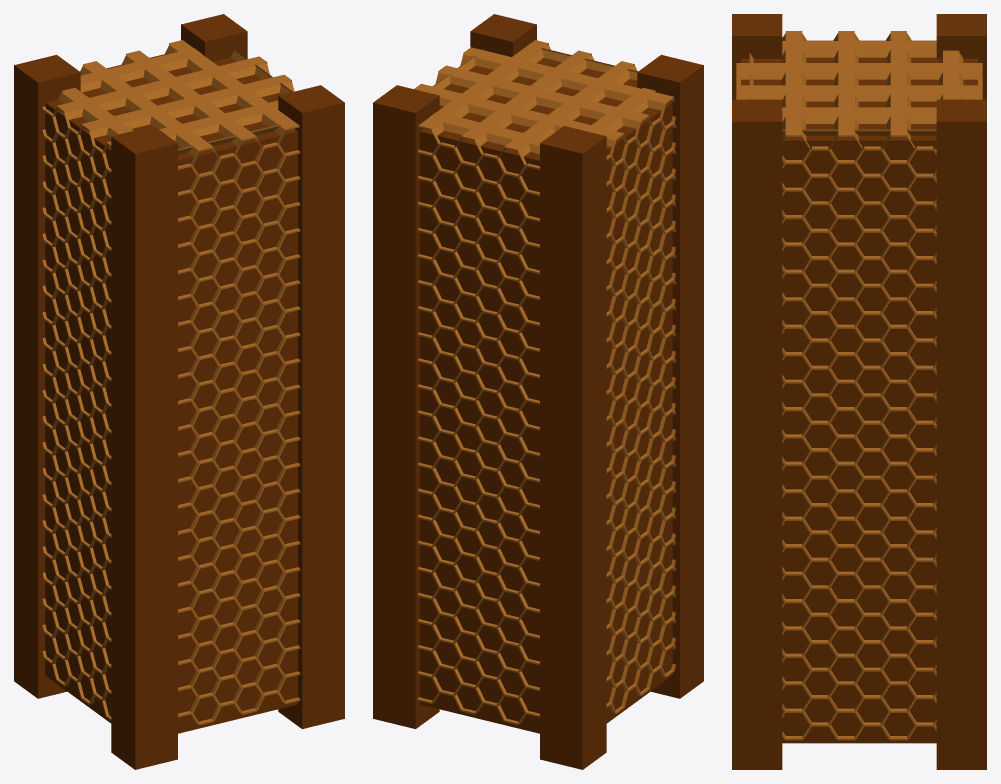
Rendered from wall.fbx.
The picture shows the model from 3 angles, left to right: view 1: azimuth 30°, elevation 25°; view 2: azimuth 150°, elevation 25°; view 3: azimuth 270°, elevation 25°; orthographic projection. The views are drawn at different scales.
Parts seen in each view (by area): view 1: Cube.005, HoneyComb.001, HoneyComb.007; view 2: Cube.005, HoneyComb.001, HoneyComb.007; view 3: Cube.005, HoneyComb.007, HoneyComb.001.
Boxes of the visible parts, x1,y1,x2,y2 form: Cube.005: (14,14,344,769); HoneyComb.001: (58,40,300,724); HoneyComb.007: (42,48,294,720); Cube.005: (373,14,703,769); HoneyComb.001: (417,40,655,724); HoneyComb.007: (414,47,675,713); Cube.005: (732,14,986,769); HoneyComb.007: (749,31,963,740); HoneyComb.001: (736,41,982,135).
Size of the model in its own units: 215 by 604 by 215.
